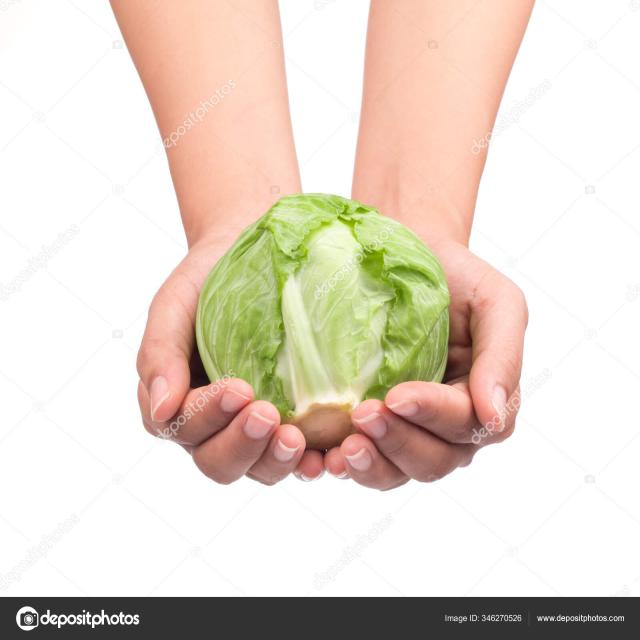cabbage: (193, 184, 459, 450)
